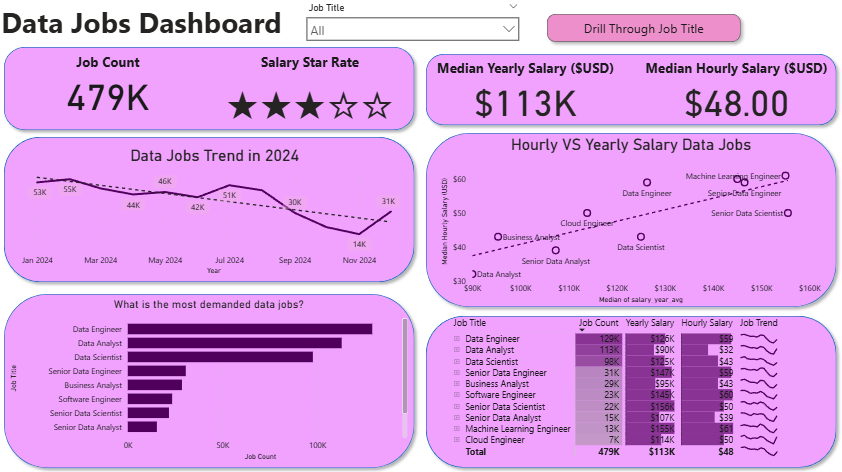

What the dashboard file says about the page in this screenshot:
{"tool":"powerbi","page":{"name":"Data Jobs Dashboard","canvas":[1280,720],"ordinal":0},"visuals":[{"type":"textbox","box":[0,0,1280,74],"z":0},{"type":"shape","box":[0,64,640,144],"z":0,"group":"g1"},{"type":"cardVisual","fields":{"Data":["CountNonNull(job_postings_flat.job_title_short)"]},"box":[14,64,306,126],"z":0,"group":"g3"},{"type":"cardVisual","fields":{"Data":["Median(job_postings_flat.salary_year_avg)"]},"box":[640,73.3,320,126],"z":0,"group":"g2"},{"type":"slicer","fields":{"Values":["job_postings_flat.job_title_short"]},"box":[457,0,342.4,63.2],"z":1000},{"type":"cardVisual","fields":{"Data":["job_postings_flat.Salary Star Rate"]},"box":[320,64,306,126],"z":1000,"group":"g3"},{"type":"cardVisual","fields":{"Data":["Median(job_postings_flat.salary_hour_avg)"]},"box":[960,73.3,320,126],"z":1000,"group":"g2"},{"type":"shape","box":[640,74,640,126],"z":1000,"group":"g1"},{"type":"group","id":"g1","title":"Group 2","box":[0,64,1280,656],"z":2000},{"type":"shape","box":[0,200,640,238],"z":2000,"group":"g1"},{"type":"group","id":"g2","title":"Group 1","box":[640,73.3,640,126.7],"z":3000},{"type":"shape","box":[640,194,640,282],"z":3000,"group":"g1"},{"type":"group","id":"g3","title":"Group 1","box":[14,64,612,126],"z":4000},{"type":"shape","box":[640,472,640,248],"z":4000,"group":"g1"},{"type":"lineChart","title":"Data Jobs Trend in 2024","fields":{"Y":["CountNonNull(job_postings_flat.job_title_short)"],"Category":["job_postings_flat.job_posted_date.Variation.Date Hierarchy.Year","job_postings_flat.job_posted_date.Variation.Date Hierarchy.Quarter","job_postings_flat.job_posted_date.Variation.Date Hierarchy.Month","job_postings_flat.job_posted_date.Variation.Date Hierarchy.Day"]},"box":[30,222,596,200],"z":5000},{"type":"shape","box":[0,438,640,282],"z":5000,"group":"g1"},{"type":"barChart","title":"What is the most demanded data jobs?","fields":{"Category":["job_postings_flat.job_title_short"],"Y":["CountNonNull(job_postings_flat.job_title_short)"]},"box":[14,452,612,252],"z":6000},{"type":"scatterChart","title":"Hourly VS Yearly Salary Data Jobs","fields":{"X":["Median(job_postings_flat.salary_year_avg)"],"Y":["Median(job_postings_flat.salary_hour_avg)"],"Series":["job_postings_flat.job_title_short"]},"box":[666.7,206.7,585,260],"z":7000},{"type":"pivotTable","fields":{"Rows":["job_postings_flat.job_title_short","job_postings_flat.job_posted_date.Variation.Date Hierarchy.Quarter"],"Values":["CountNonNull(job_postings_flat.job_title_short)","Median(job_postings_flat.salary_year_avg)","Median(job_postings_flat.salary_hour_avg)","SparklineData(CountNonNull(job_postings_flat.job_title_short)_[job_postings_flat.job_posted_date.Variation.Date Hierarch"]},"box":[680,476,596,244],"z":8000},{"type":"actionButton","box":[822.9,13.2,311.5,60.2],"z":9000}]}

Visuals, with their boxes in screenshot pixels (x1, y1, x2, y2), scaled from the page's 1280x720 canvas onto the 842x472 screenshot:
textbox: rect(0, 0, 841, 49)
shape: rect(0, 42, 421, 136)
cardVisual - CountNonNull(job_postings_flat.job_title_short): rect(9, 42, 210, 125)
cardVisual - Median(job_postings_flat.salary_year_avg): rect(421, 48, 632, 131)
slicer - job_postings_flat.job_title_short: rect(301, 0, 526, 41)
cardVisual - job_postings_flat.Salary Star Rate: rect(210, 42, 412, 125)
cardVisual - Median(job_postings_flat.salary_hour_avg): rect(632, 48, 841, 131)
shape: rect(421, 49, 841, 131)
"Group 2" group: rect(0, 42, 841, 471)
shape: rect(0, 131, 421, 287)
"Group 1" group: rect(421, 48, 841, 131)
shape: rect(421, 127, 841, 312)
"Group 1" group: rect(9, 42, 412, 125)
shape: rect(421, 309, 841, 471)
"Data Jobs Trend in 2024" lineChart: rect(20, 146, 412, 277)
shape: rect(0, 287, 421, 471)
"What is the most demanded data jobs?" barChart: rect(9, 296, 412, 462)
"Hourly VS Yearly Salary Data Jobs" scatterChart: rect(439, 136, 823, 306)
pivotTable - job_postings_flat.job_title_short x job_postings_flat.job_posted_date.Variation.Date Hierarchy.Quarter: rect(447, 312, 839, 471)
actionButton: rect(541, 9, 746, 48)
